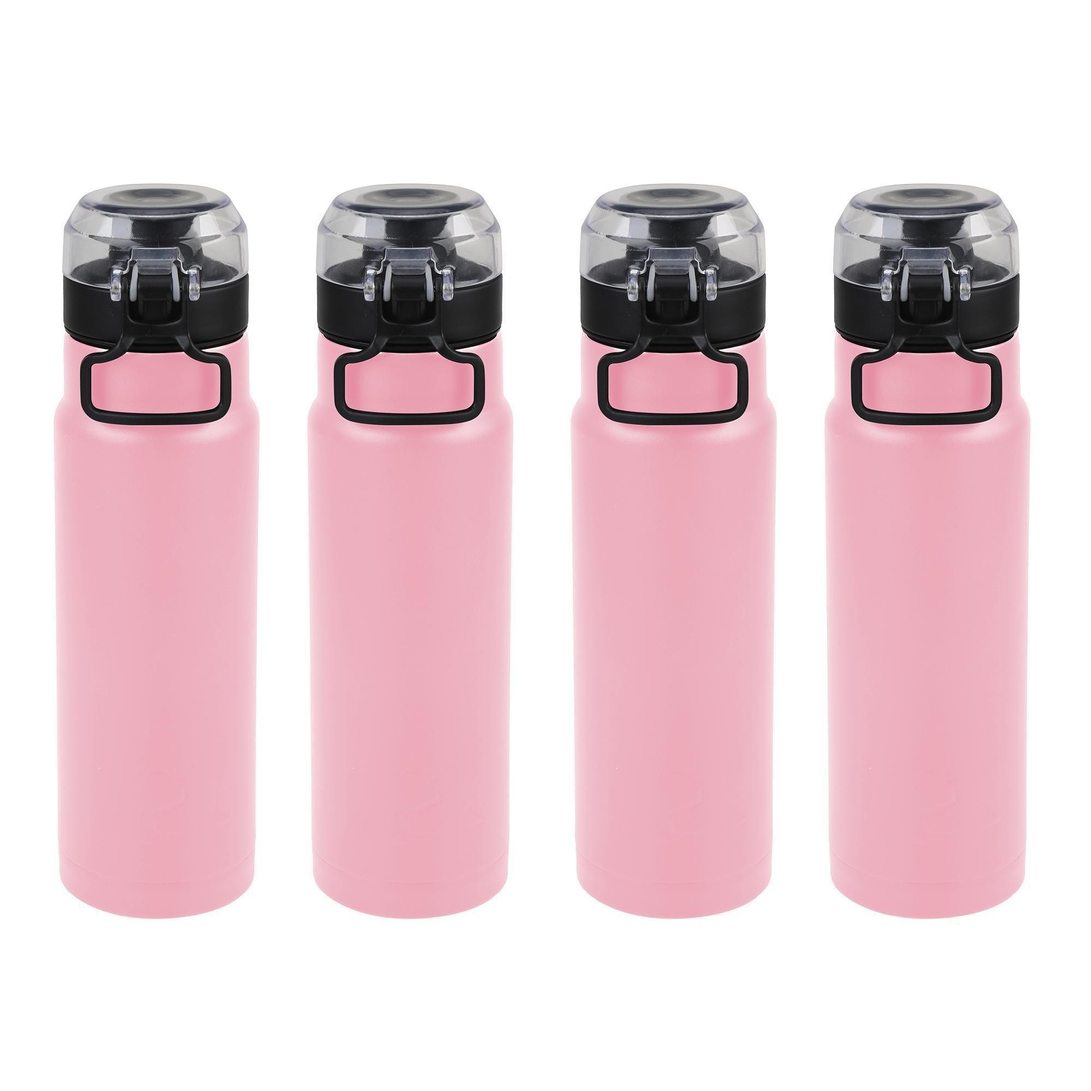gym bottle: (299, 181, 521, 923), (47, 179, 268, 923), (818, 181, 1039, 924), (565, 181, 784, 924)
